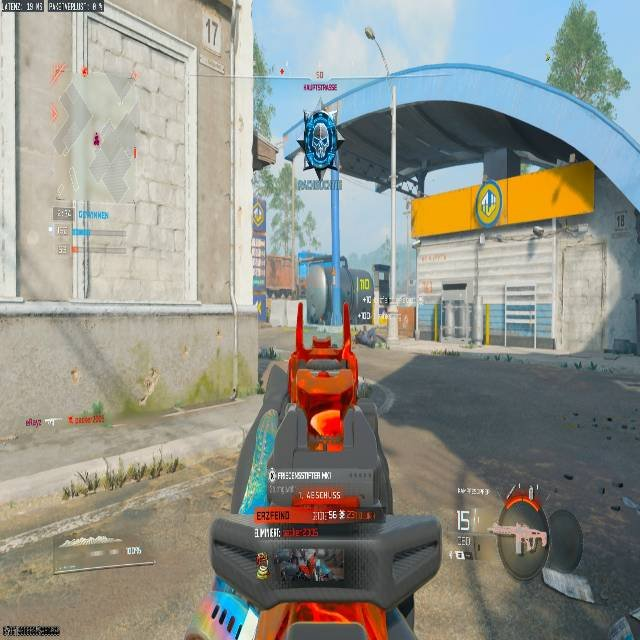head: (493, 494, 550, 580)
player: (461, 493, 637, 638), (294, 109, 342, 174), (250, 257, 275, 326)
